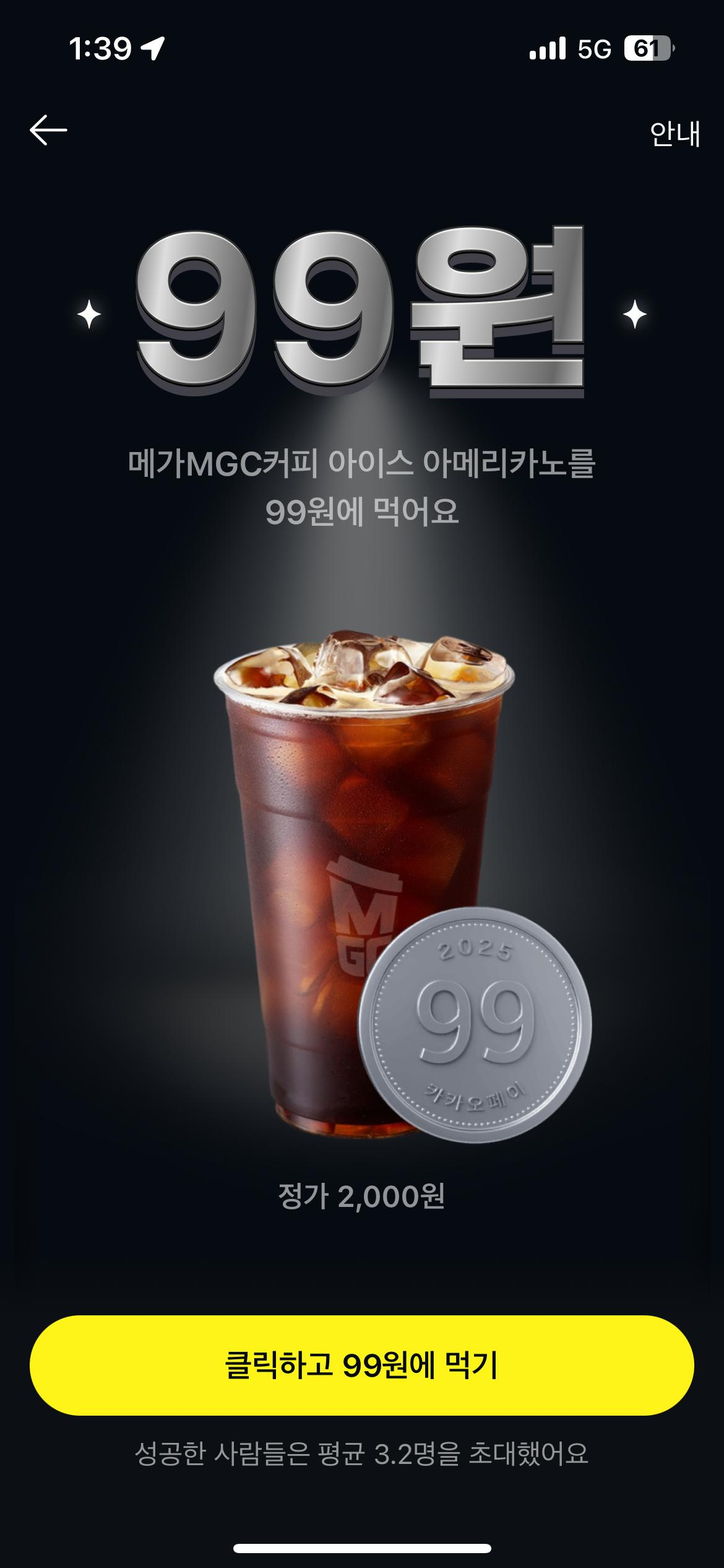button: (37, 1307, 701, 1418), (631, 101, 720, 159), (25, 111, 95, 167)
